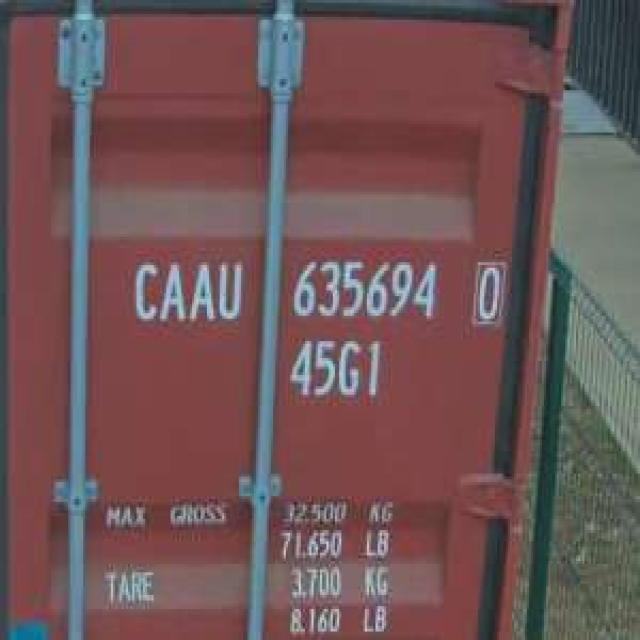dv: (467, 251, 508, 330)
owner: (124, 254, 245, 330)
serial: (286, 251, 441, 327)
size: (284, 330, 386, 406)
